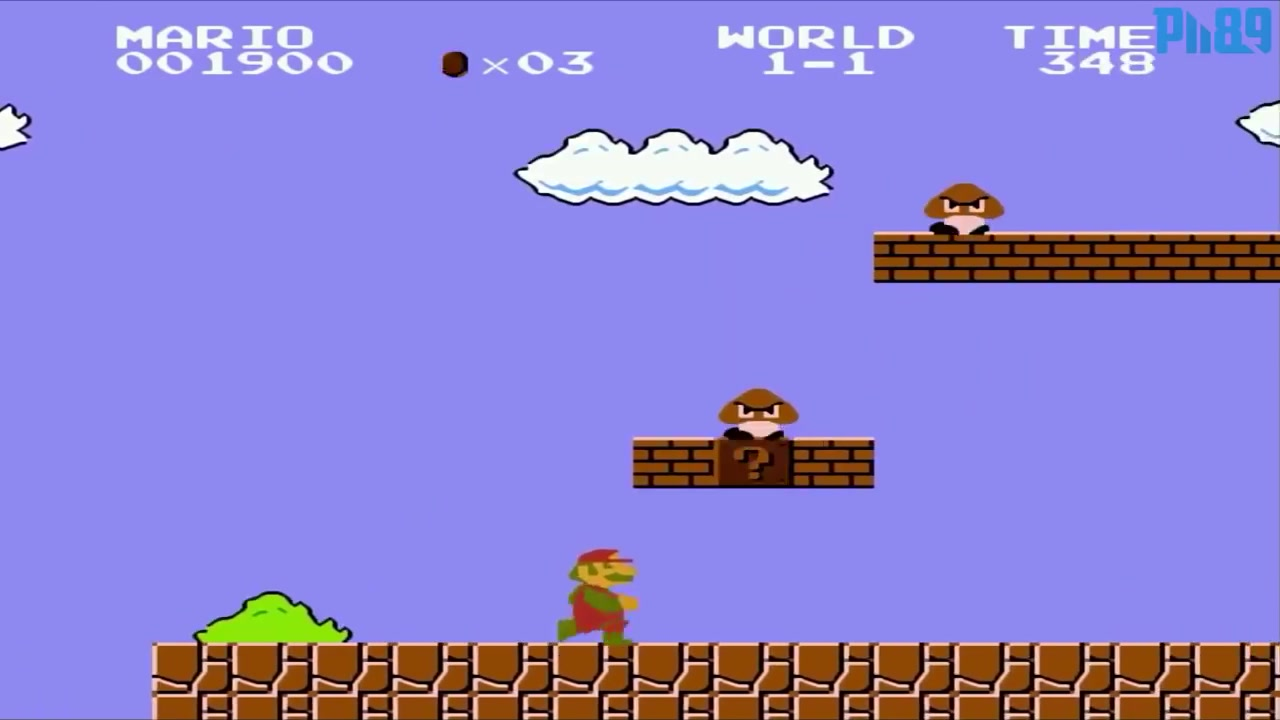mario: (543, 538, 637, 643)
